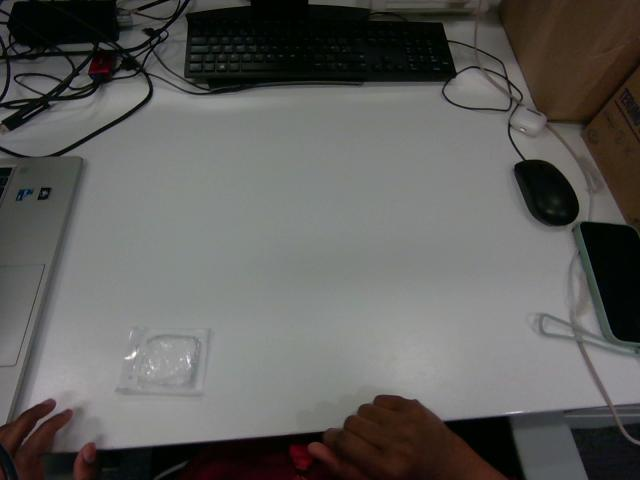gauze: (116, 327, 209, 395)
